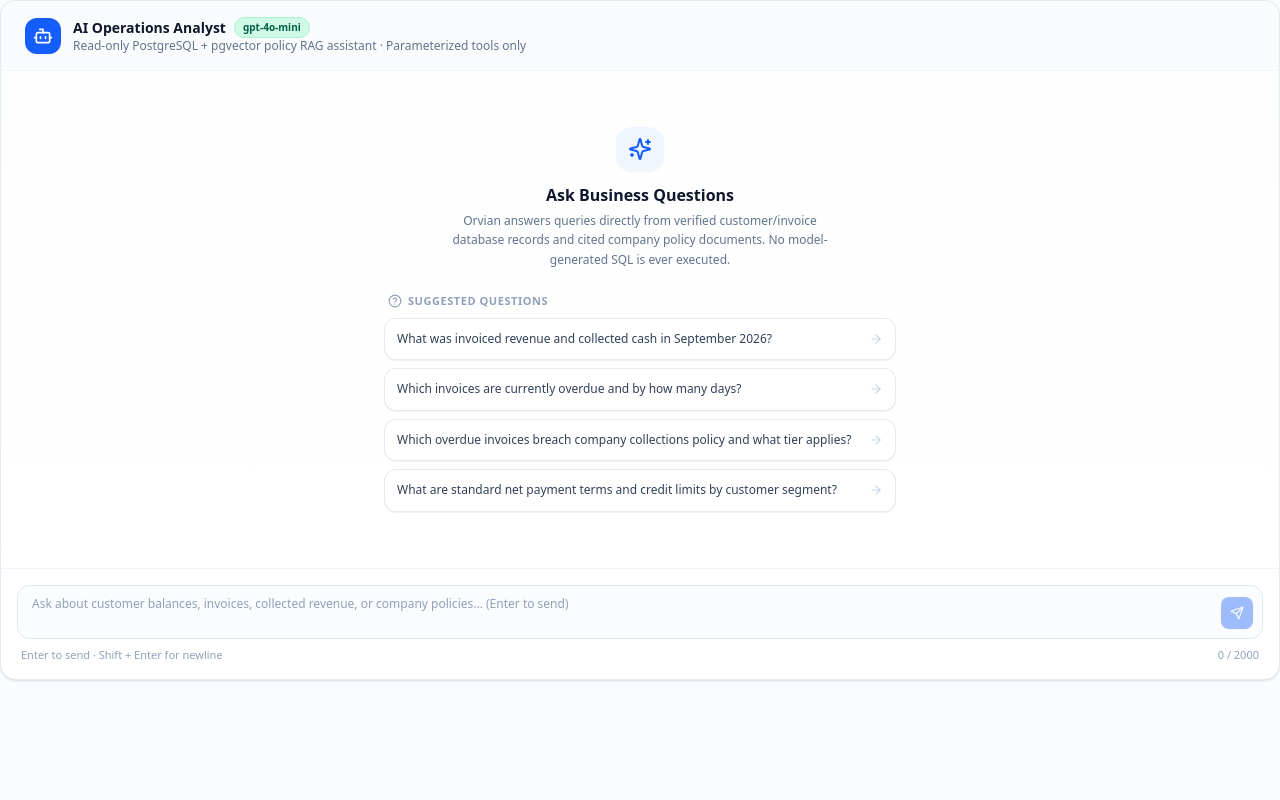
ChatCard AI Operations Analyst › submits a question via input, displays user bubble, assistant answer, and tool traces
The width and height of the screenshot is (1280, 800).
Step 1. Replace the text in the text box with placeholder "Ask about customer balances" with "What was our revenue in September?" → (640, 612), box [17,584,1263,638]
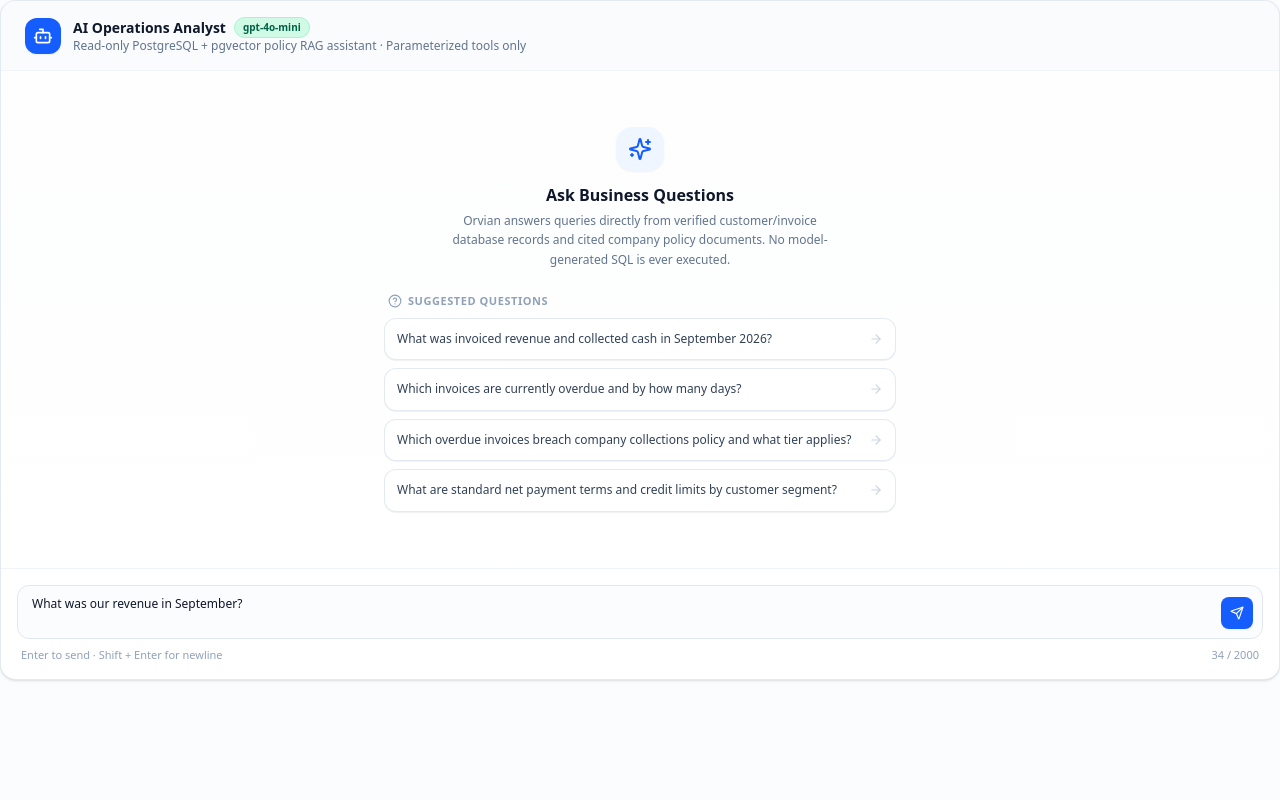
Step 2. Click the button named "send message" → (1237, 612), box [1221,596,1253,628]
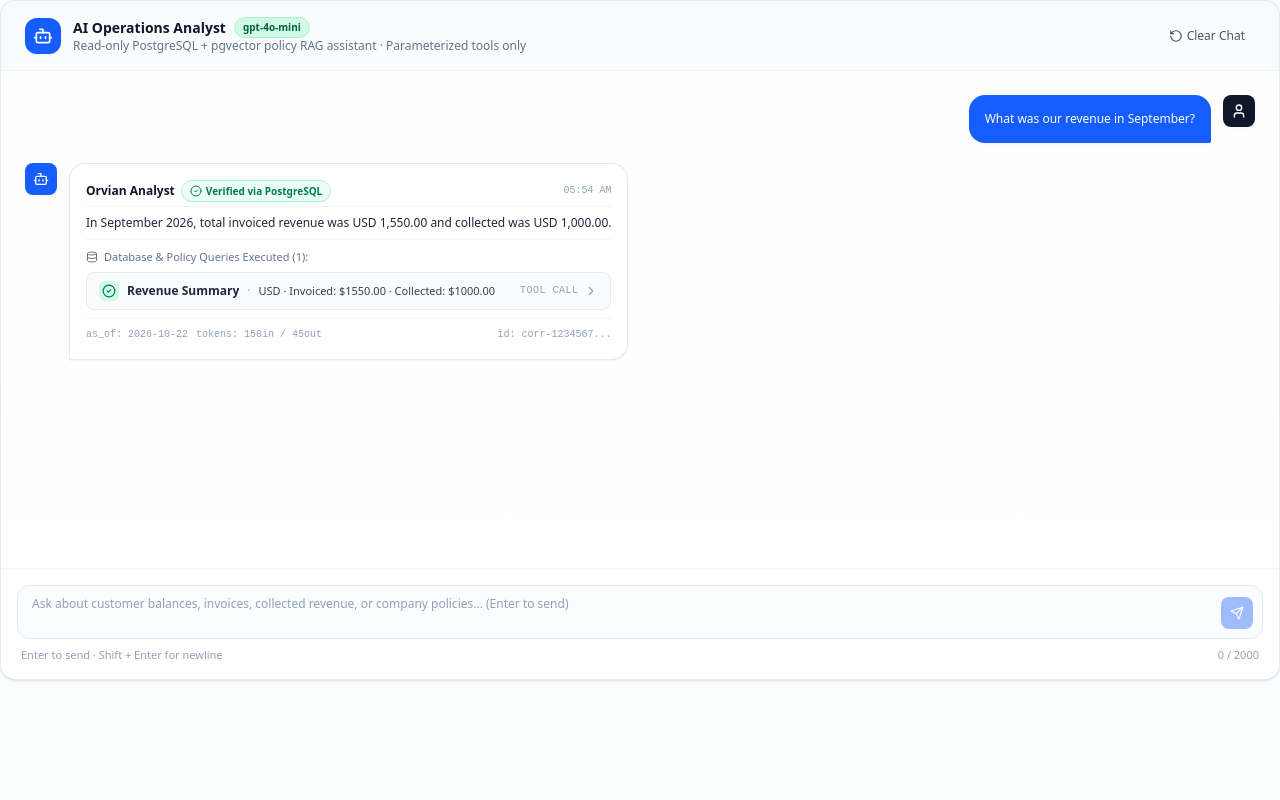
Expected: the text "What was our revenue in September?" is shown, [985,111,1195,127]
Expected: the text "total invoiced revenue was USD 1,550.00" is shown, [86,214,612,231]
Expected: the text "Verified via PostgreSQL" is shown, [181,180,331,202]
Expand tool call details
Step 3. Click the button "Revenue Summary" → (349, 291), box [87,273,610,309]
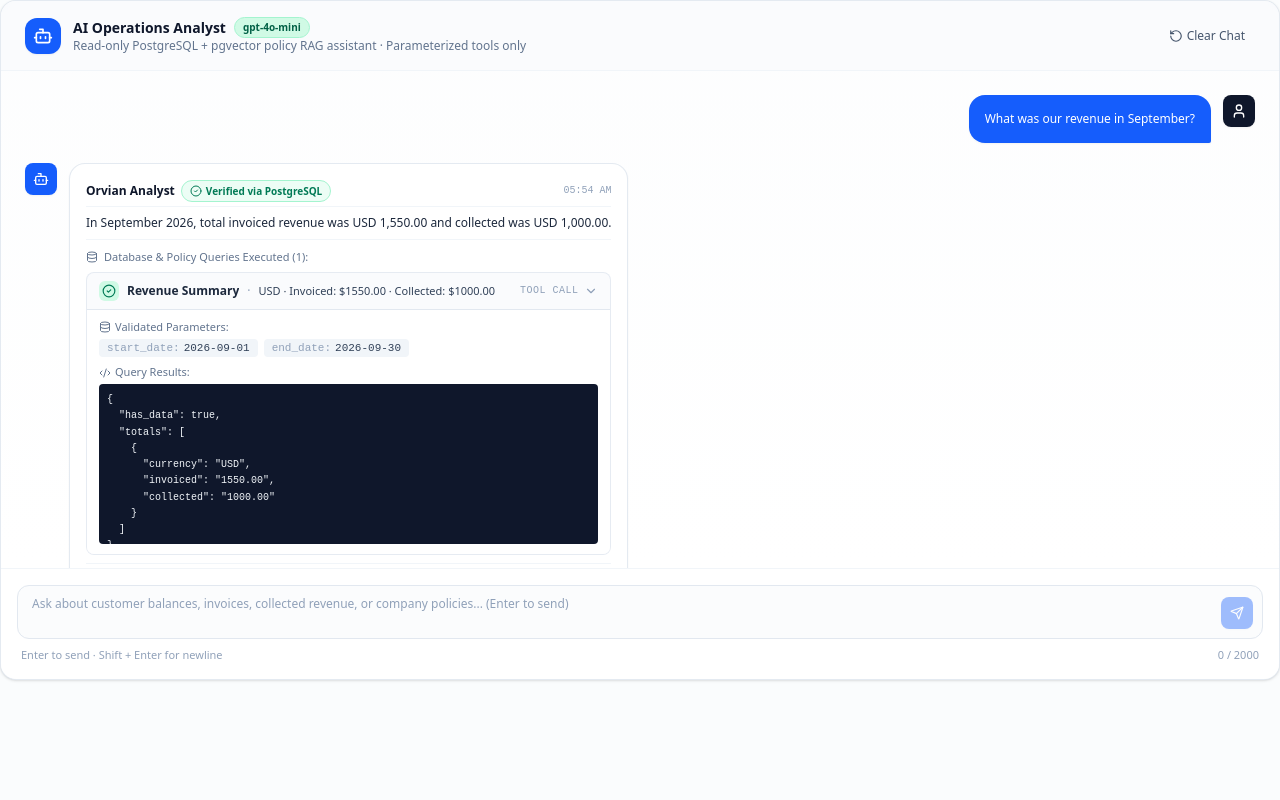
Expected: the text "Validated Parameters:" is shown, [115,320,229,335]
Expected: the text "2026-09-01" is shown, [184,341,250,356]
Expected: the text "Query Results:" is shown, [115,365,190,380]
